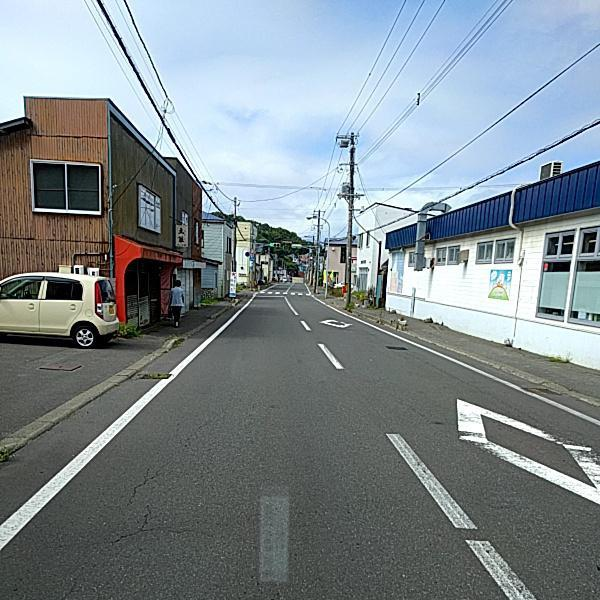D00: (105, 453, 209, 546)
D44: (381, 427, 524, 593), (443, 387, 599, 502)
